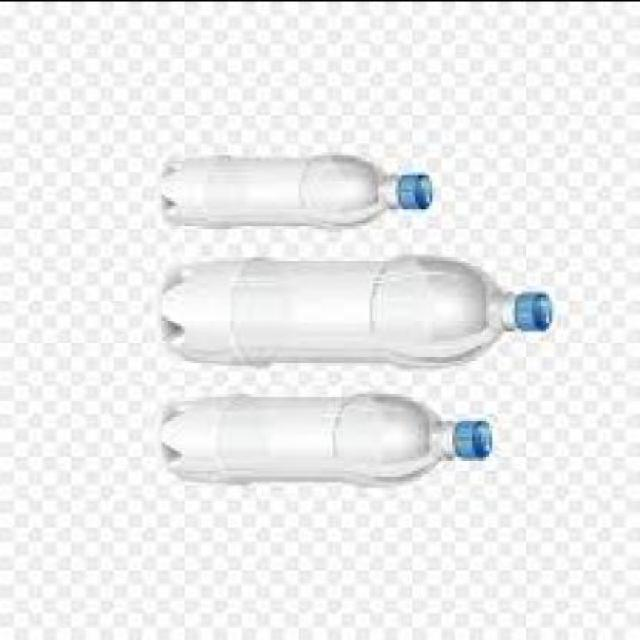PLASTIC: (168, 250, 552, 364), (166, 390, 494, 476), (164, 150, 436, 224), (518, 287, 552, 330), (458, 416, 494, 456), (400, 170, 438, 204)
